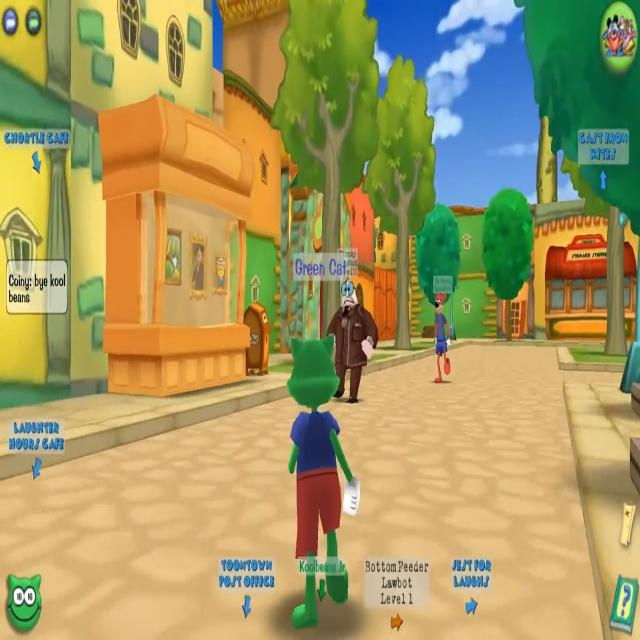flunky: (316, 246, 382, 408)
